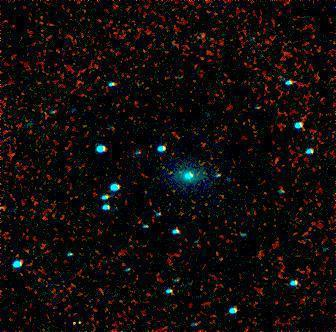star: (61, 309, 91, 332)
